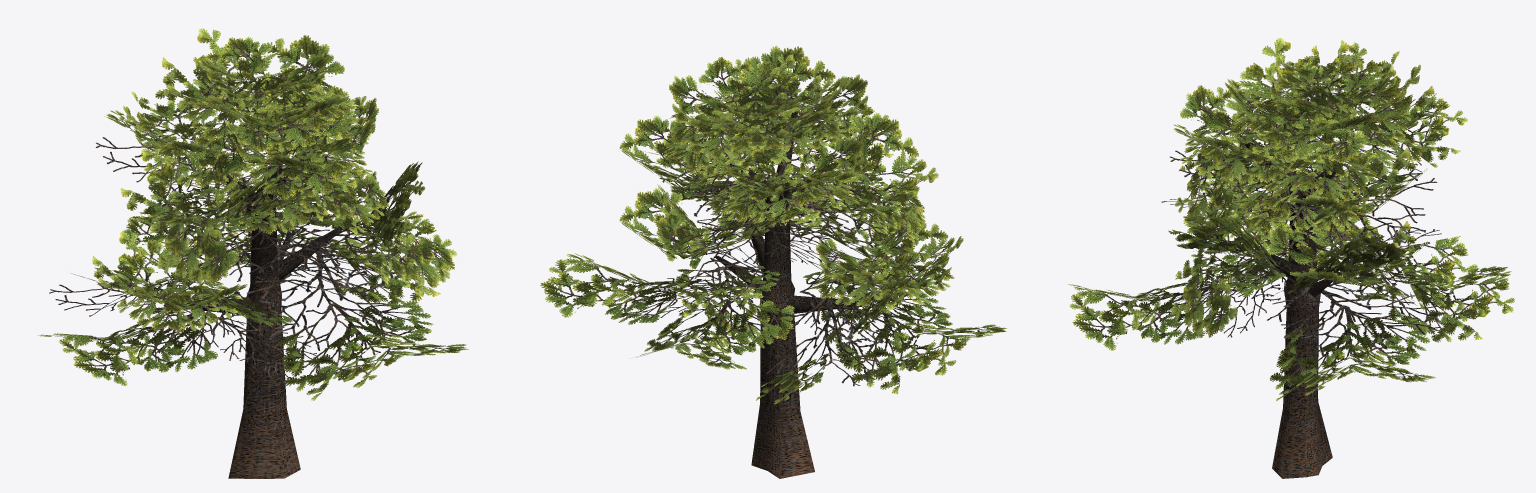
The model's file is oak.gltf.
3 views of the same model, side by side, from view 1: azimuth 30°, elevation 25°; view 2: azimuth 150°, elevation 25°; view 3: azimuth 270°, elevation 25° (orthographic).
Parts seen in each view (by area): view 1: oak; view 2: oak; view 3: oak.
Part boxes in pixels (x1=…): oak: x1=38, y1=28, x2=468, y2=478; oak: x1=540, y1=45, x2=1007, y2=478; oak: x1=1068, y1=38, x2=1514, y2=478.
Bounding box in the file's own units: 21.34 × 19.61 × 19.89.
2 materials, 2 textured.
